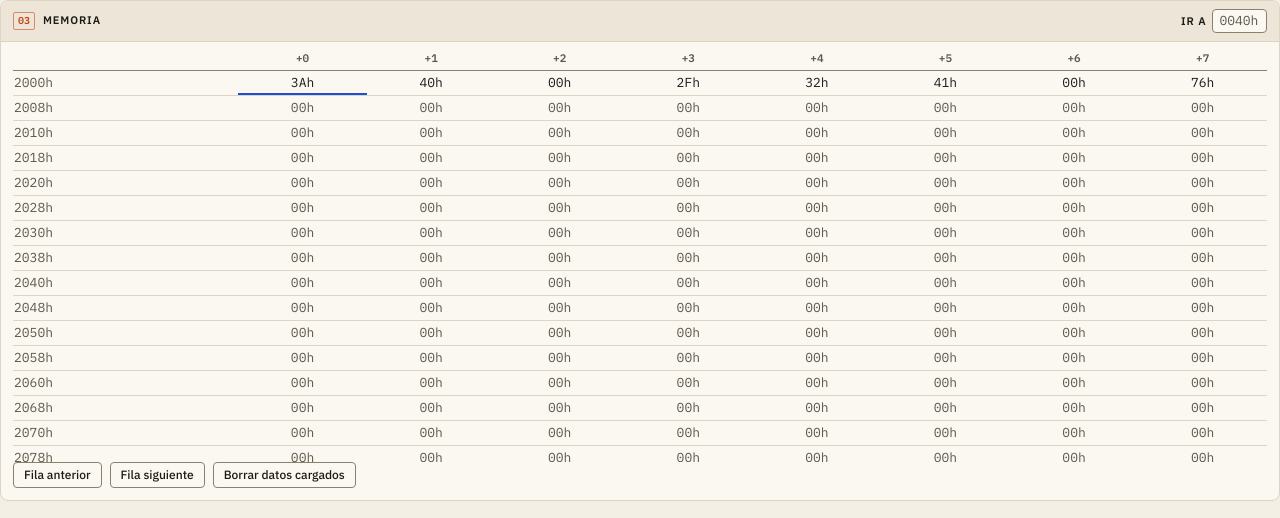
Test case: Memory › editar 0040h con 55 actualiza la celda y userMemory
Type "0000h" into the field labelled "Ir a" at (1240, 21), box 1212,9 -> 1267,33
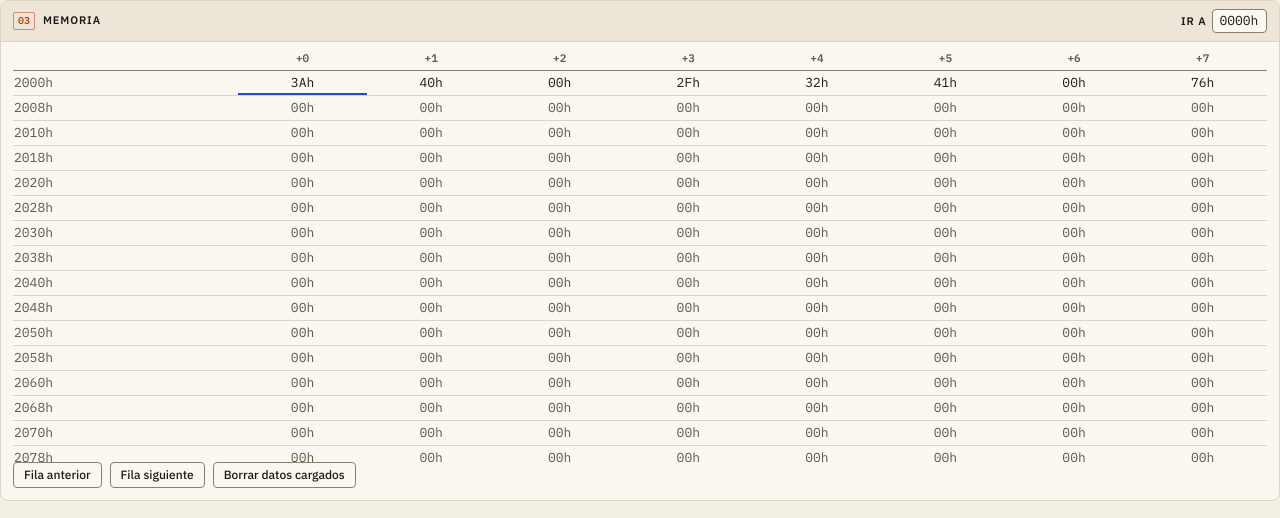
Press Enter in the field labelled "Ir a", box 1212,9 -> 1267,33
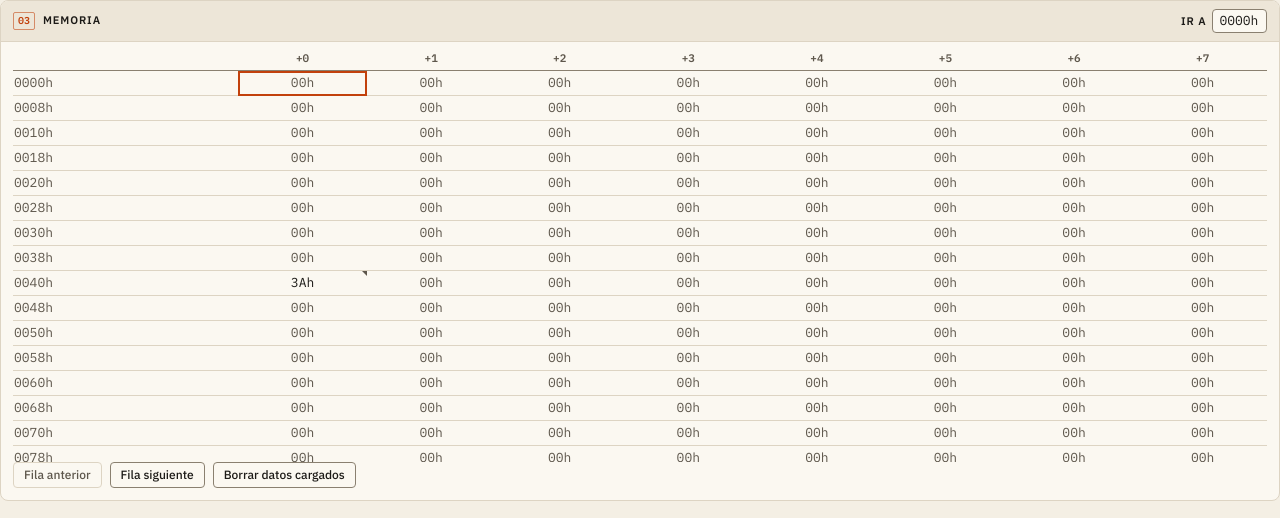
Double-click the cell named "0040h: 3Ah" at (303, 283), box 238,270 -> 367,296
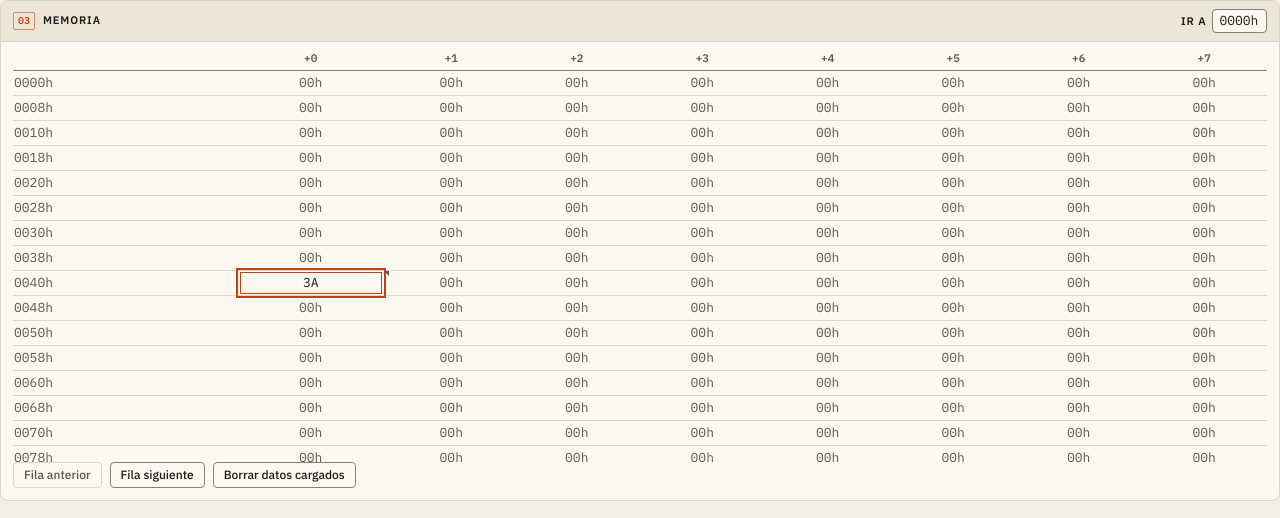
Expected: the field named "Valor de 0040h" holds "3A"
Replace the text in the field named "Valor de 0040h" with "55" at (311, 283), box 240,272 -> 382,294
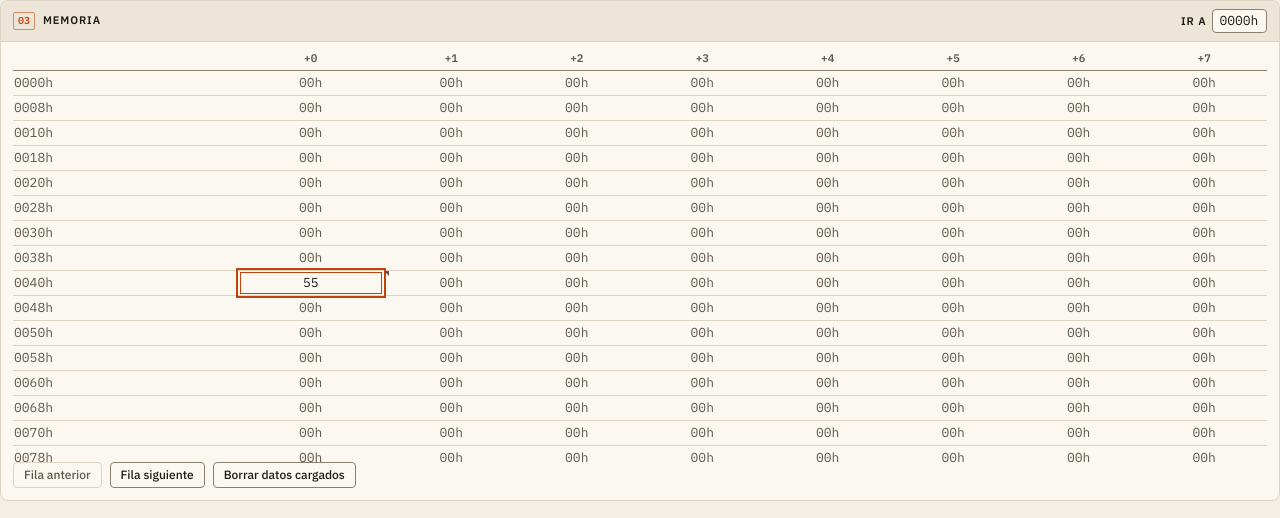
Press Enter in the field named "Valor de 0040h", box 240,272 -> 382,294
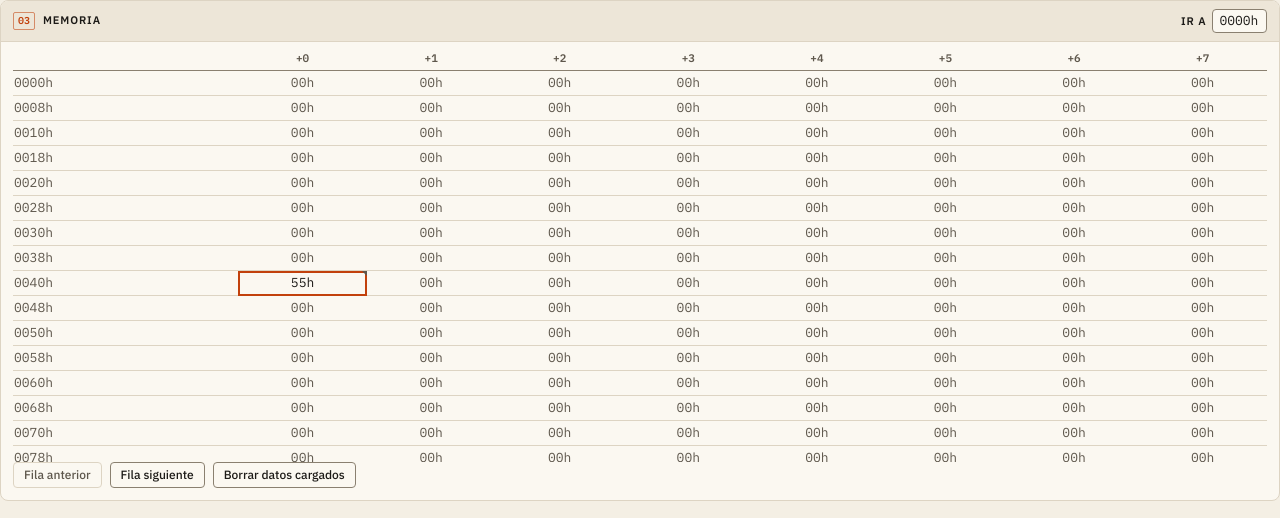
Expected: the cell named "0040h: 55h" reads "55h", 291,274 -> 314,291
